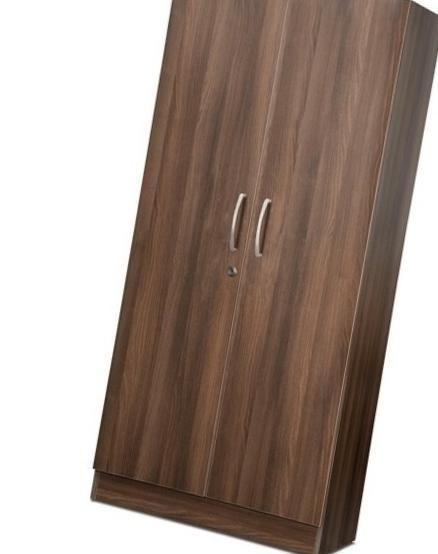Armario: (86, 8, 430, 549)
